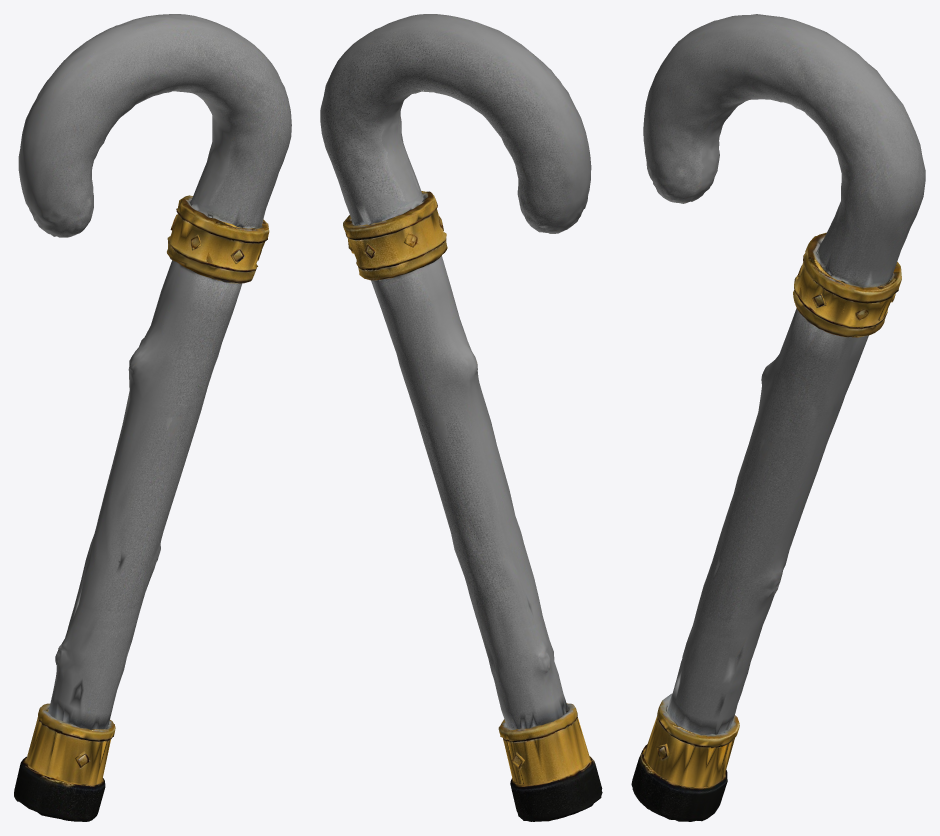
Rendered from decent_club.fbx.
The picture shows the model from 3 angles, left to right: view 1: azimuth 30°, elevation 25°; view 2: azimuth 150°, elevation 25°; view 3: azimuth 330°, elevation 25°; orthographic projection. The views are drawn at different scales.
Parts seen in each view (by area): view 1: tripo_node_97f45183; view 2: tripo_node_97f45183; view 3: tripo_node_97f45183.
Boxes of the visible parts, x1=… form: tripo_node_97f45183: x1=14, y1=14, x2=291, y2=821; tripo_node_97f45183: x1=320, y1=14, x2=602, y2=821; tripo_node_97f45183: x1=631, y1=14, x2=925, y2=821.
Bounding box in the file's own units: 0.3613 × 0.998 × 0.1152.
1 material, 1 textured.
